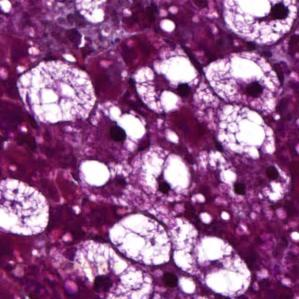ballooning: (14, 57, 100, 128), (209, 102, 277, 162), (192, 234, 252, 299), (108, 212, 175, 269)
